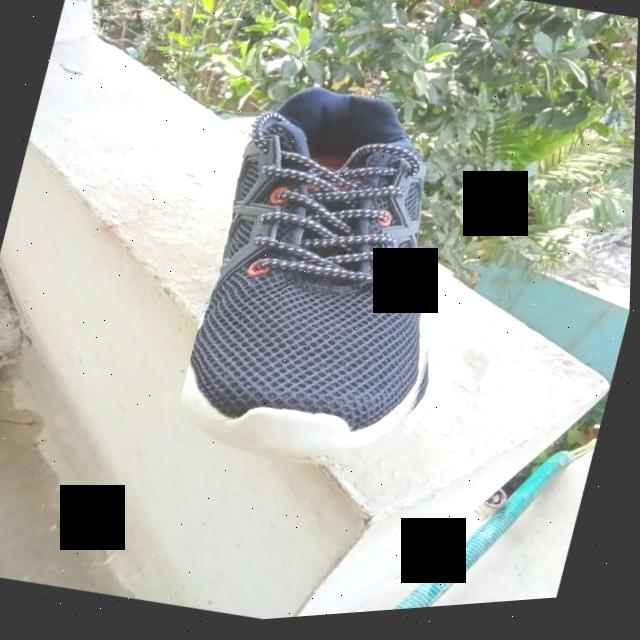shoe: (170, 66, 504, 502)
